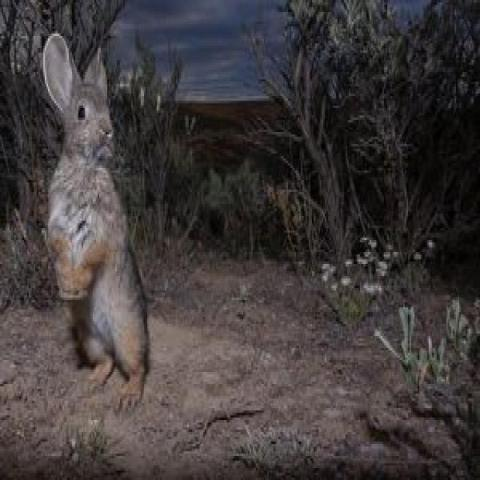small_animal: (38, 30, 153, 409)
